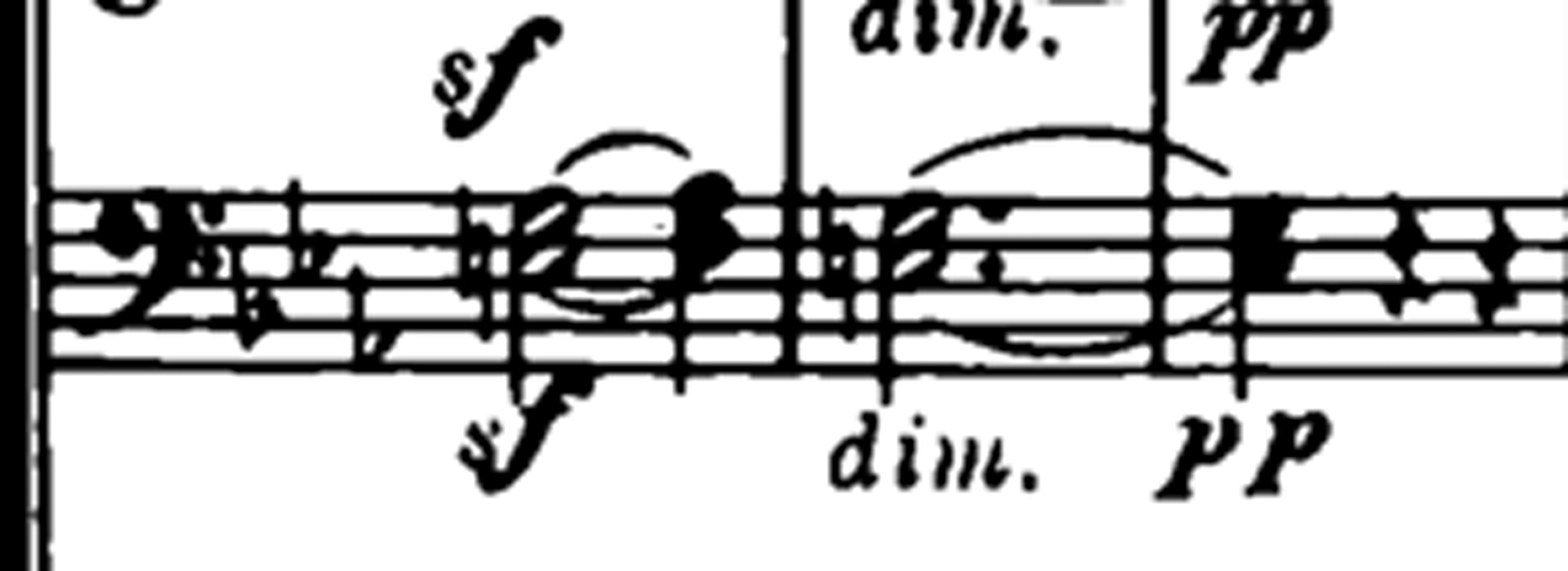clefF: (67, 161, 230, 383)
dynamicF: (1186, 0, 1257, 83)
noteheadBlackInSpace: (672, 172, 733, 212), (0, 242, 25, 273), (0, 360, 25, 390), (0, 341, 25, 370), (0, 545, 26, 570)
restHBar: (216, 330, 1391, 410), (491, 170, 1353, 242)
staff: (98, 174, 1274, 358)
